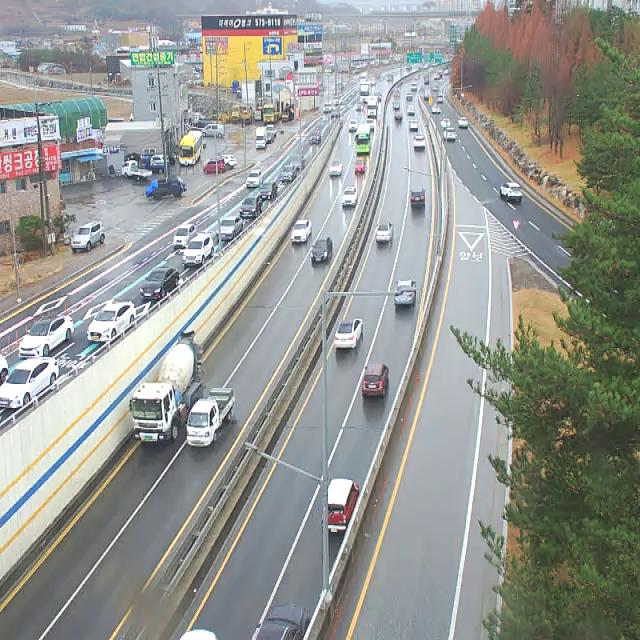Bus: (179, 130, 203, 166), (354, 124, 371, 154)
Car: (0, 358, 59, 410), (19, 316, 74, 359), (255, 602, 310, 640), (322, 478, 359, 534), (87, 301, 136, 342), (140, 268, 180, 299), (71, 220, 105, 254), (183, 234, 214, 266), (361, 364, 389, 397), (336, 318, 363, 349), (216, 216, 243, 240), (395, 278, 416, 308), (173, 224, 197, 250), (311, 237, 333, 263), (240, 196, 262, 220), (291, 220, 312, 244), (138, 155, 164, 173), (500, 183, 523, 202), (258, 180, 278, 200), (376, 223, 393, 244), (198, 124, 224, 137), (410, 187, 426, 208), (342, 186, 358, 207), (246, 170, 263, 188), (203, 161, 224, 174), (289, 154, 305, 170), (280, 166, 296, 182), (0, 354, 9, 382), (329, 160, 343, 177), (223, 155, 237, 170), (150, 155, 170, 165), (367, 99, 378, 117), (413, 134, 425, 150), (354, 157, 366, 173), (281, 109, 294, 122), (444, 128, 456, 142), (310, 131, 321, 145), (266, 125, 277, 138), (440, 118, 452, 129), (458, 117, 468, 130), (366, 119, 376, 132), (349, 119, 358, 132), (323, 103, 333, 113), (410, 120, 418, 132), (432, 104, 441, 114), (266, 133, 274, 144), (407, 106, 415, 116), (356, 101, 364, 111), (392, 101, 400, 110), (374, 92, 382, 101), (395, 112, 403, 120), (406, 92, 413, 101), (437, 94, 443, 104)
Truck: (128, 332, 204, 443), (186, 388, 236, 448), (151, 177, 187, 200), (122, 161, 152, 181), (262, 105, 278, 123), (256, 127, 266, 150)
